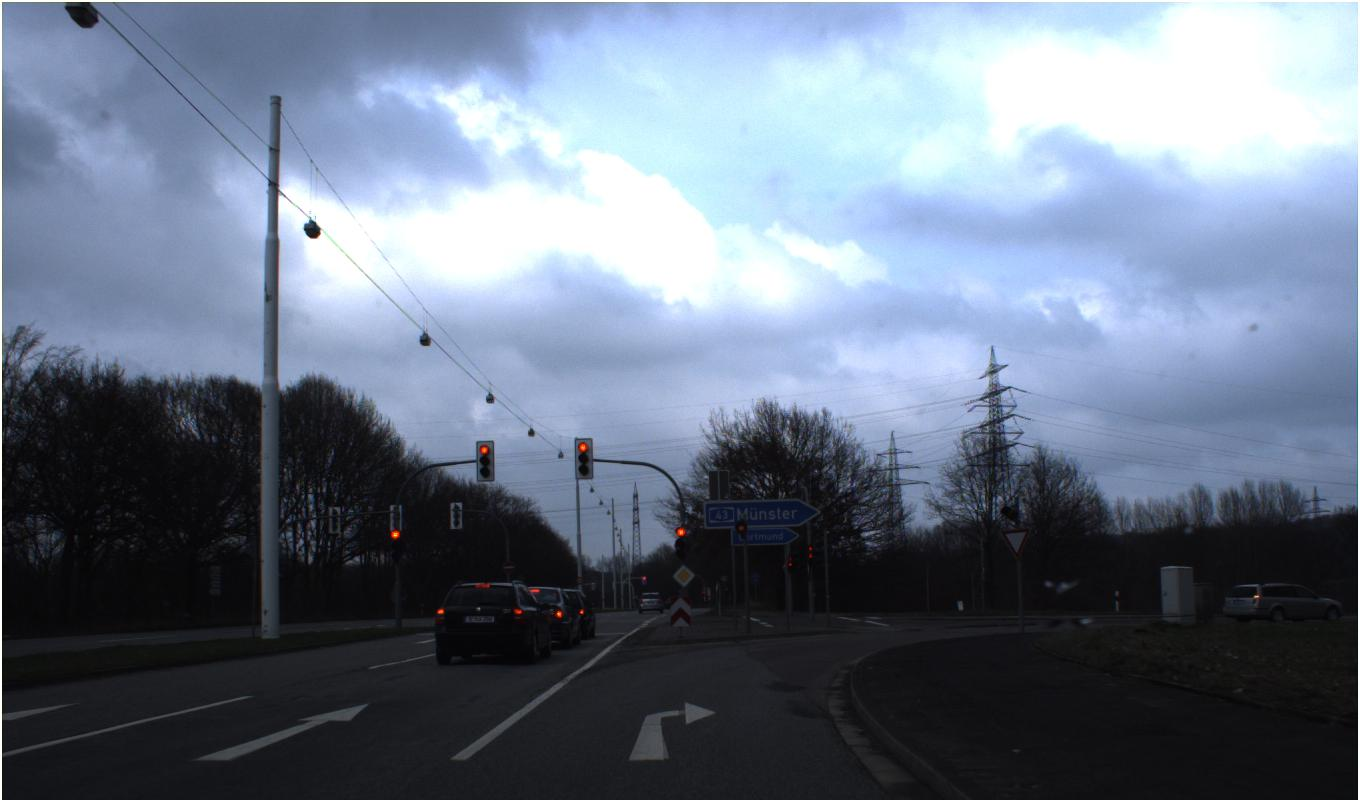sign: (999, 527, 1031, 560), (671, 563, 696, 589)
